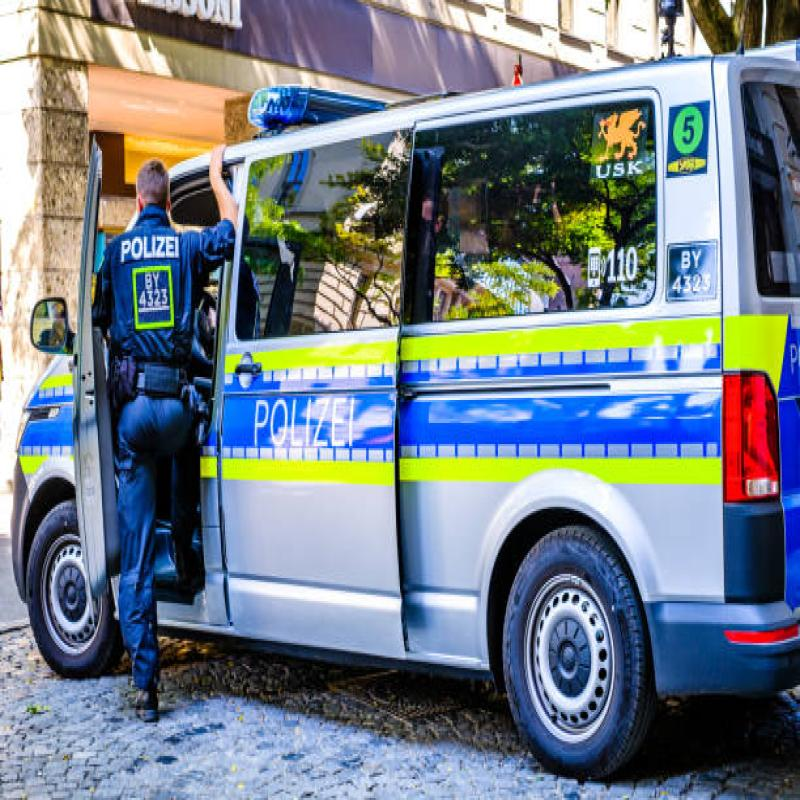AmbulanceSiren: (232, 56, 392, 146)
